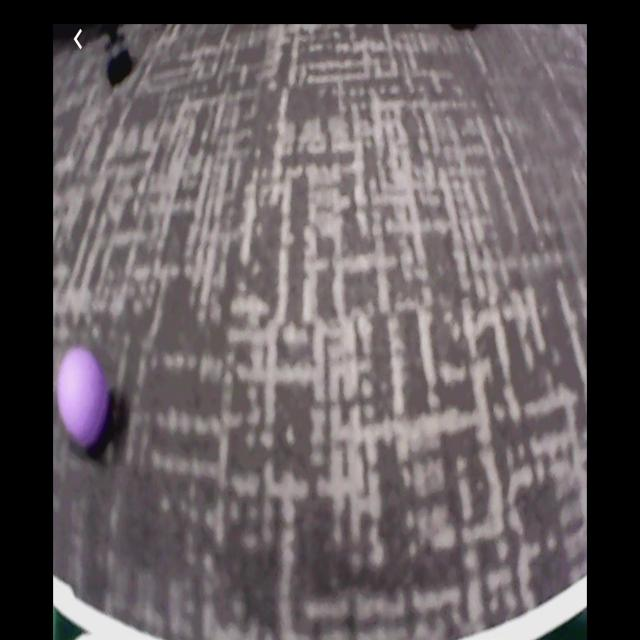ball: (57, 345, 110, 450)
